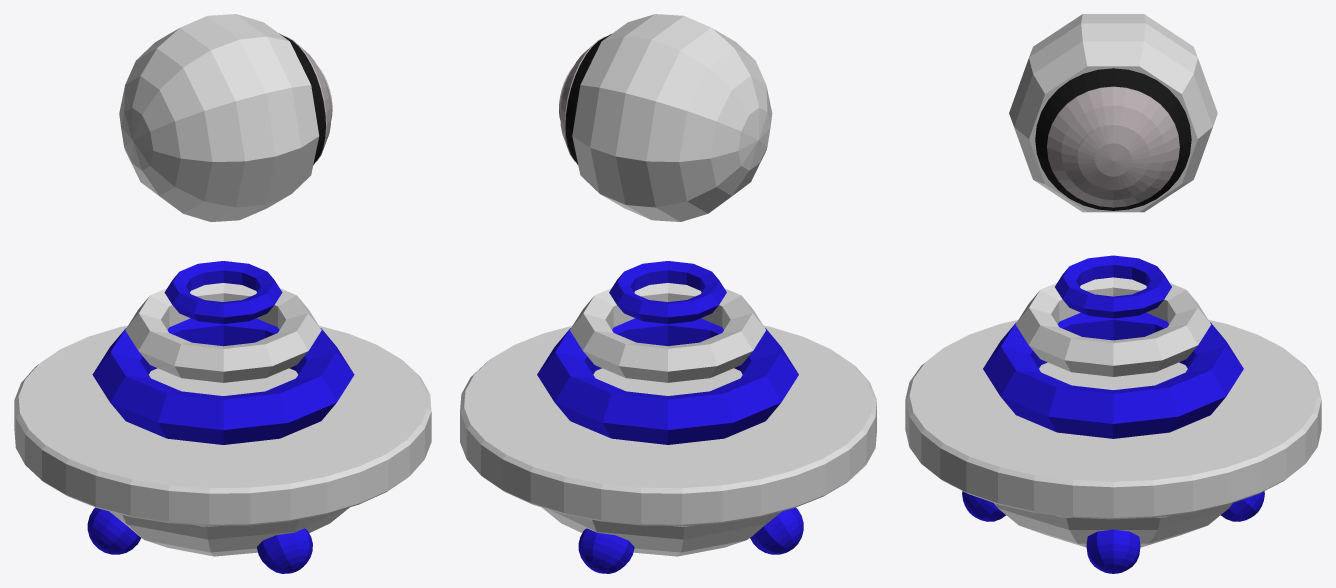
File: Camara.fbx
3 views of the same model, side by side, from view 1: azimuth 30°, elevation 25°; view 2: azimuth 150°, elevation 25°; view 3: azimuth 270°, elevation 25° (orthographic).
Parts seen in each view (by area): view 1: base, camara, Rosca, Rosca.001, Rosca.002; view 2: base, camara, Rosca, Rosca.001, Rosca.002; view 3: base, camara, Rosca, Rosca.001, Rosca.002.
Part boxes in pixels (left/top/right/bottom): base: left=14, top=325, right=431, bottom=573; camara: left=119, top=14, right=332, bottom=221; Rosca: left=92, top=318, right=354, bottom=444; Rosca.001: left=125, top=283, right=321, bottom=382; Rosca.002: left=164, top=261, right=282, bottom=323; base: left=460, top=325, right=876, bottom=573; camara: left=559, top=14, right=772, bottom=221; Rosca: left=537, top=318, right=798, bottom=444; Rosca.001: left=570, top=283, right=765, bottom=382; Rosca.002: left=609, top=261, right=726, bottom=323; base: left=905, top=320, right=1321, bottom=573; camara: left=1009, top=14, right=1217, bottom=212; Rosca: left=983, top=312, right=1243, bottom=438; Rosca.001: left=1015, top=277, right=1210, bottom=376; Rosca.002: left=1055, top=255, right=1171, bottom=318.
Size of the model in its own units: 297 by 399 by 297.
